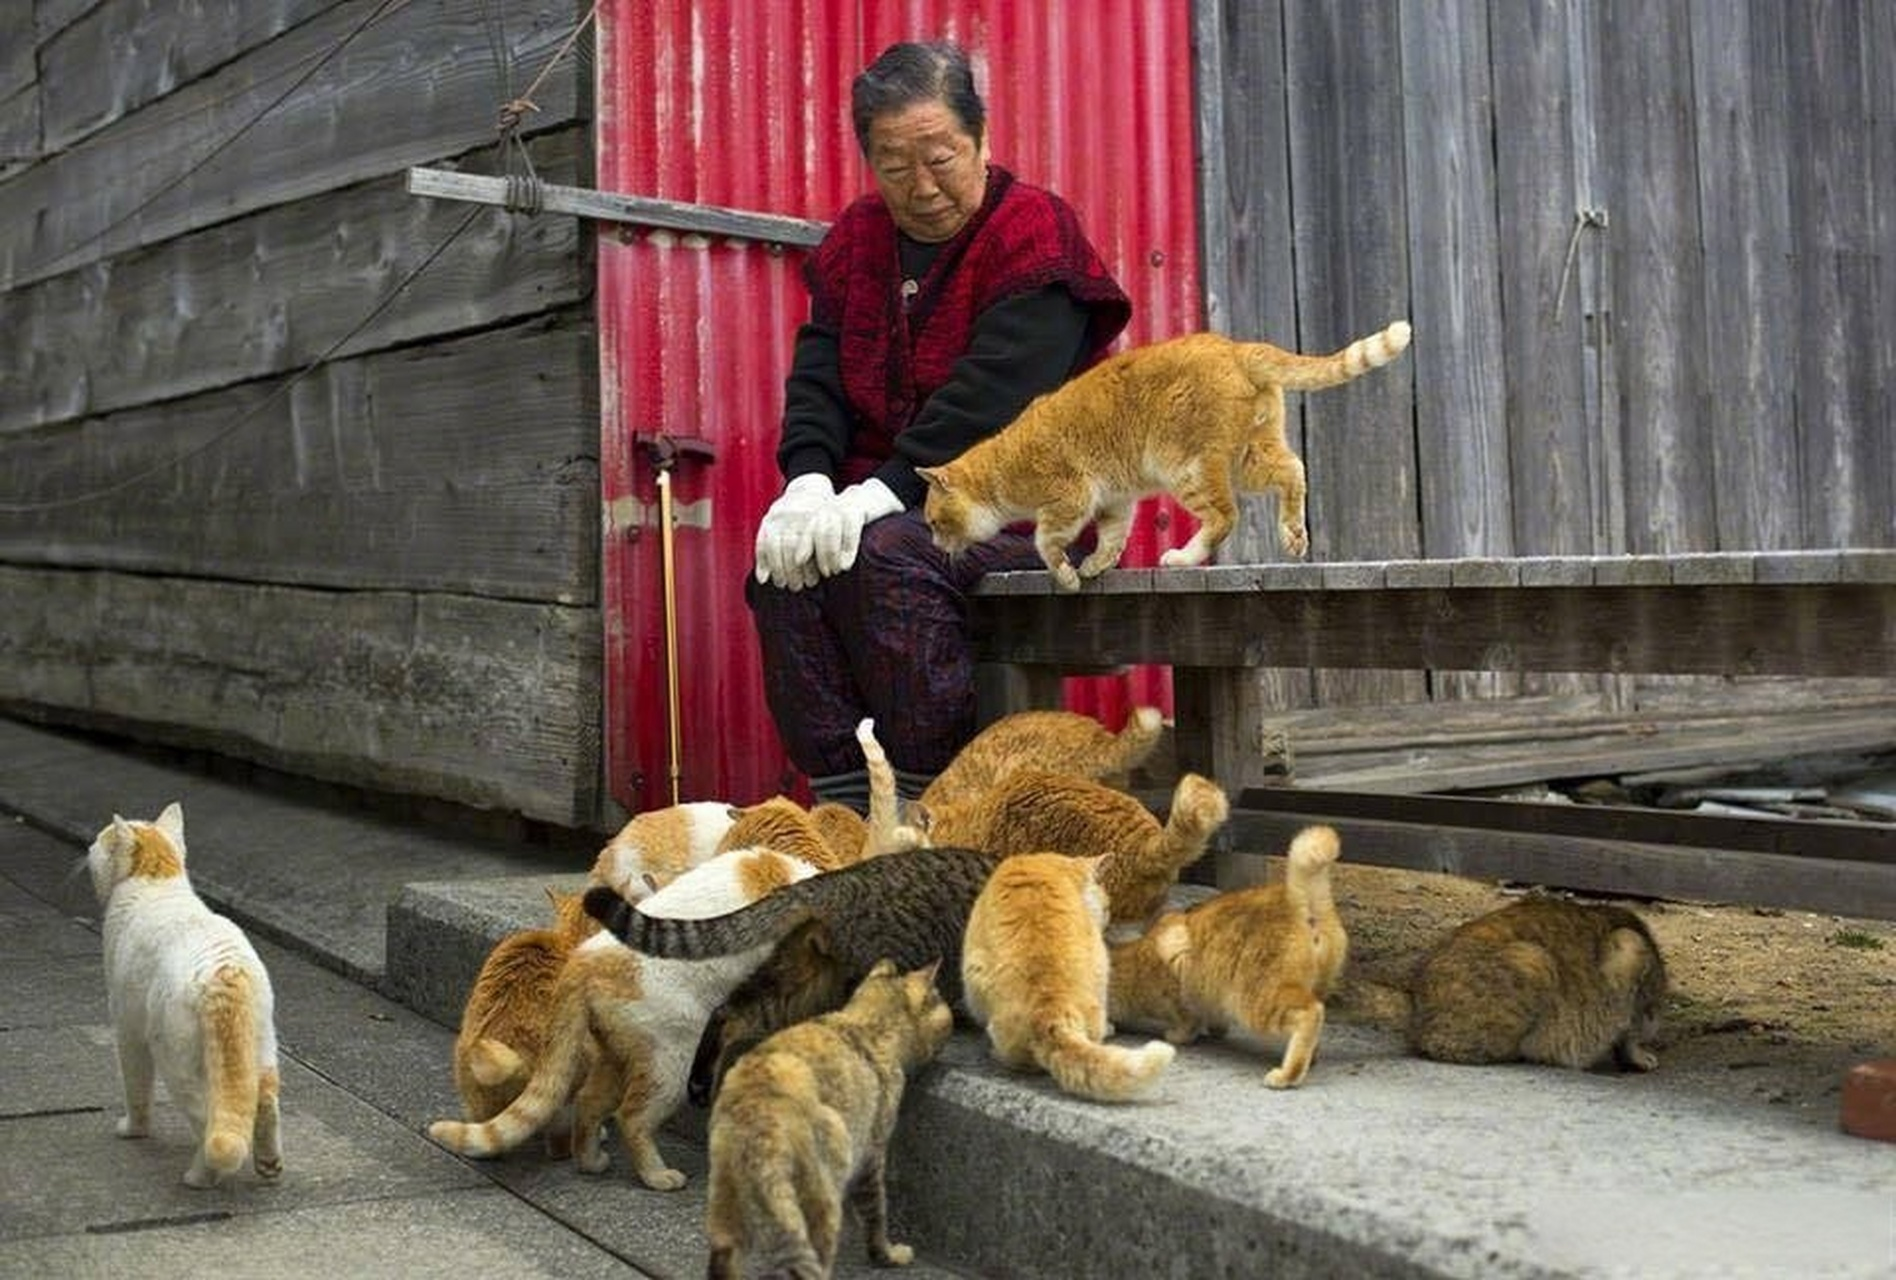cat: (912, 320, 1414, 594), (429, 849, 833, 1189), (583, 847, 1016, 1104), (699, 959, 954, 1280), (81, 801, 287, 1191), (1104, 821, 1350, 1093), (1352, 897, 1670, 1077), (962, 849, 1169, 1101), (904, 771, 1226, 926), (916, 701, 1164, 857), (454, 929, 583, 1164), (549, 799, 743, 946)
